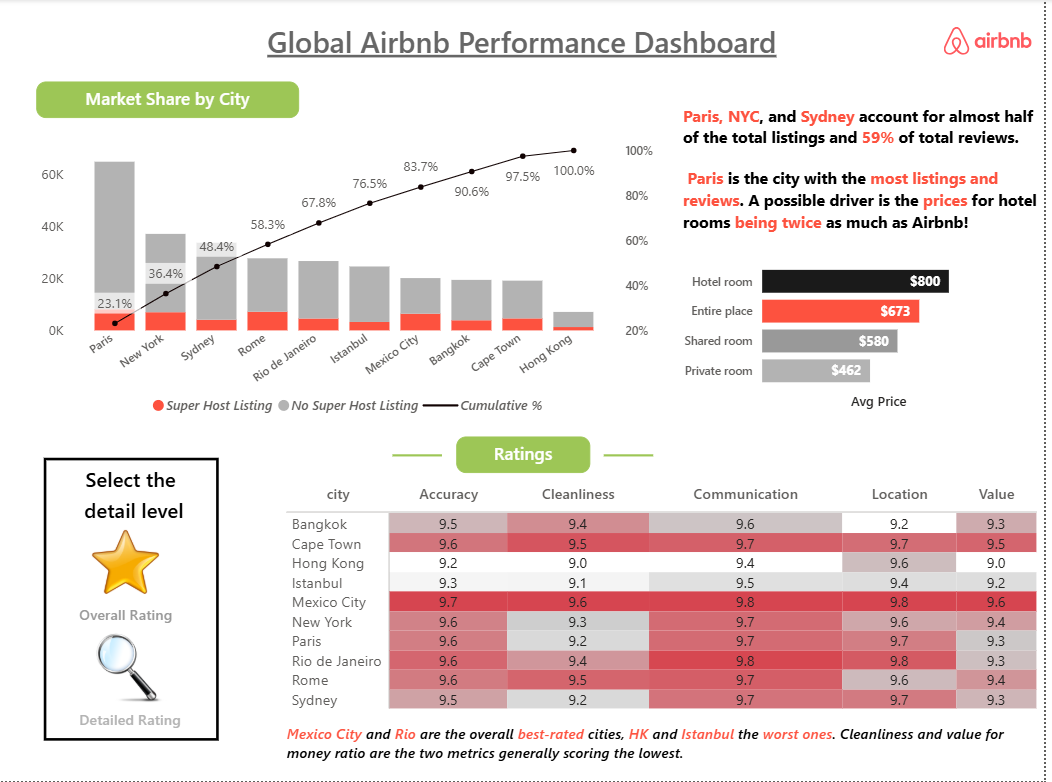

The page's visual inventory and layout, read from the dashboard file:
{"tool":"powerbi","page":{"name":"Ratings","canvas":[960,720],"ordinal":1},"visuals":[{"type":"textbox","box":[225.6,16.1,508.9,59.7],"z":0},{"type":"image","box":[75.3,484.4,79.2,64.9],"z":0,"group":"g2"},{"type":"image","box":[85.7,581.8,70.1,64.9],"z":0,"group":"g1"},{"type":"image","box":[867.3,16.1,80.4,44.8],"z":1000},{"type":"textbox","box":[67.5,551.4,110.4,32.5],"z":1000,"group":"g2"},{"type":"textbox","box":[67.5,646.7,110.4,32.5],"z":1000,"group":"g1"},{"type":"textbox","box":[33.8,75.3,241.6,33.8],"z":2000},{"type":"textbox","box":[622.1,92.2,337.7,132.5],"z":3000},{"type":"lineStackedColumnComboChart","fields":{"Category":["Listings.city"],"Y":["Listings.Super Host Listing","Listings.No Super Host Listing"],"Y2":["Listings.Cumulative %"]},"box":[33.8,123.4,576.6,268.8],"z":4000},{"type":"barChart","fields":{"Category":["Listings.room_type"],"Y":["Listings.Avg Price"]},"box":[622.1,224.7,297.4,157.1],"z":5000},{"type":"textbox","box":[419.5,402.6,123.4,33.8],"z":6000},{"type":"shape","box":[361,398.7,45.5,41.6],"z":7000},{"type":"shape","box":[554.5,398.7,45.5,41.6],"z":8000},{"type":"textbox","box":[40.3,422.1,161,259.7],"z":9000},{"type":"columnChart","fields":{"Category":["Listings.city"],"Y":["Listings.Avg Rating"]},"box":[258.4,466.2,701.3,192.2],"z":10000},{"type":"pivotTable","fields":{"Rows":["Listings.city"],"Values":["Listings.Accuracy","Listings.Cleanliness","Listings.Communication","Listings.Location","Listings.Value"]},"box":[258.4,440.3,701.3,218.2],"z":11000},{"type":"group","id":"g1","title":"Group 2","box":[67.5,581.8,110.4,97.4],"z":12000},{"type":"group","id":"g2","title":"Group 1","box":[67.5,484.4,110.4,99.5],"z":13000},{"type":"textbox","box":[258.4,661,701.3,58.4],"z":14000}]}

Visuals, with their boxes in screenshot pixels (x1, y1, x2, y2), scaled from the page's 960x720 canvas onto the 1052x782 screenshot:
textbox: 247:17:805:82
image: 83:526:169:597
image: 94:632:171:702
image: 950:17:1039:66
textbox: 74:599:195:634
textbox: 74:702:195:738
textbox: 37:82:302:118
textbox: 682:100:1051:244
lineStackedColumnComboChart - Listings.city x Listings.Super Host Listing: 37:134:669:426
barChart - Listings.room_type x Listings.Avg Price: 682:244:1008:415
textbox: 460:437:595:474
shape: 396:433:445:478
shape: 608:433:658:478
textbox: 44:458:221:741
columnChart - Listings.city x Listings.Avg Rating: 283:506:1051:715
pivotTable - Listings.city x Listings.Accuracy: 283:478:1051:715
"Group 2" group: 74:632:195:738
"Group 1" group: 74:526:195:634
textbox: 283:718:1051:781
